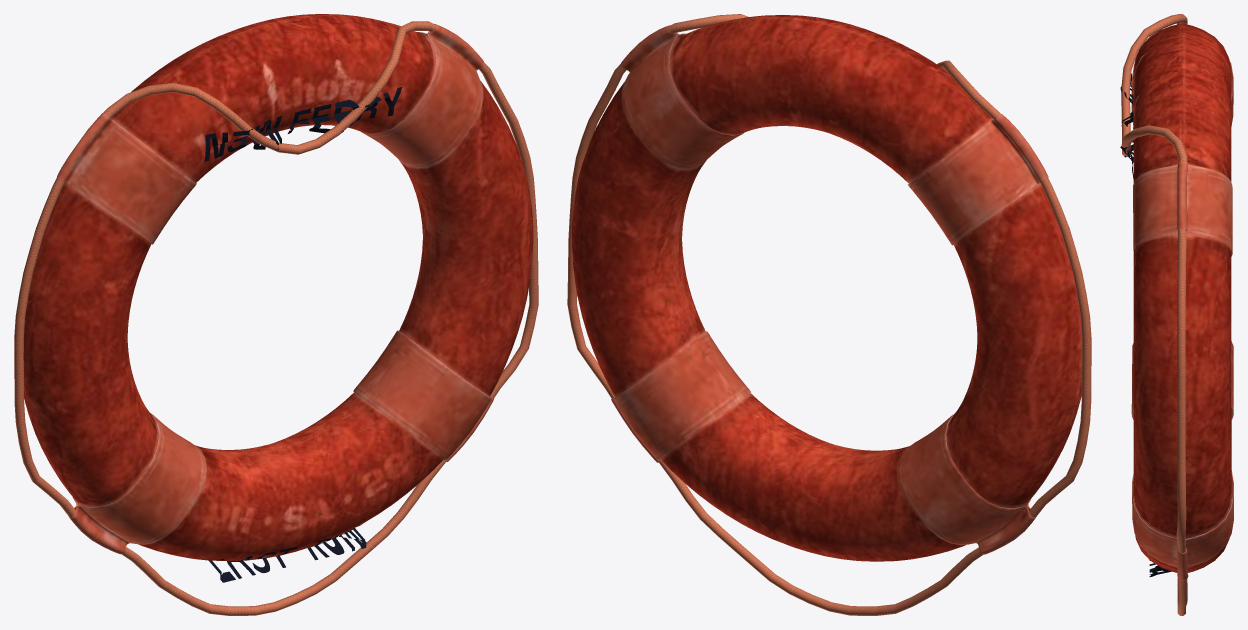
Rendered from nyb_apes_lifebuoy.glb.
3 views of the same model, side by side, from view 1: azimuth 30°, elevation 25°; view 2: azimuth 150°, elevation 25°; view 3: azimuth 270°, elevation 25° (orthographic). The views are drawn at different scales.
Parts seen in each view (by area): view 1: lifebuoy, stk_lbl_5030daf3b5.png, stk_lbl_e0f962fc05.png; view 2: lifebuoy; view 3: lifebuoy, stk_lbl_5030daf3b5.png.
Boxes of the visible parts, x1,y1,x2,y2 form: lifebuoy: [14, 14, 538, 615]; stk_lbl_5030daf3b5.png: [204, 86, 402, 161]; stk_lbl_e0f962fc05.png: [209, 524, 366, 582]; lifebuoy: [567, 14, 1091, 615]; lifebuoy: [1121, 14, 1233, 615]; stk_lbl_5030daf3b5.png: [1120, 73, 1133, 178].
Size of the model in its own units: 0.7831 by 0.8412 by 0.1566.
Materials: 3 (3 with a texture image).
